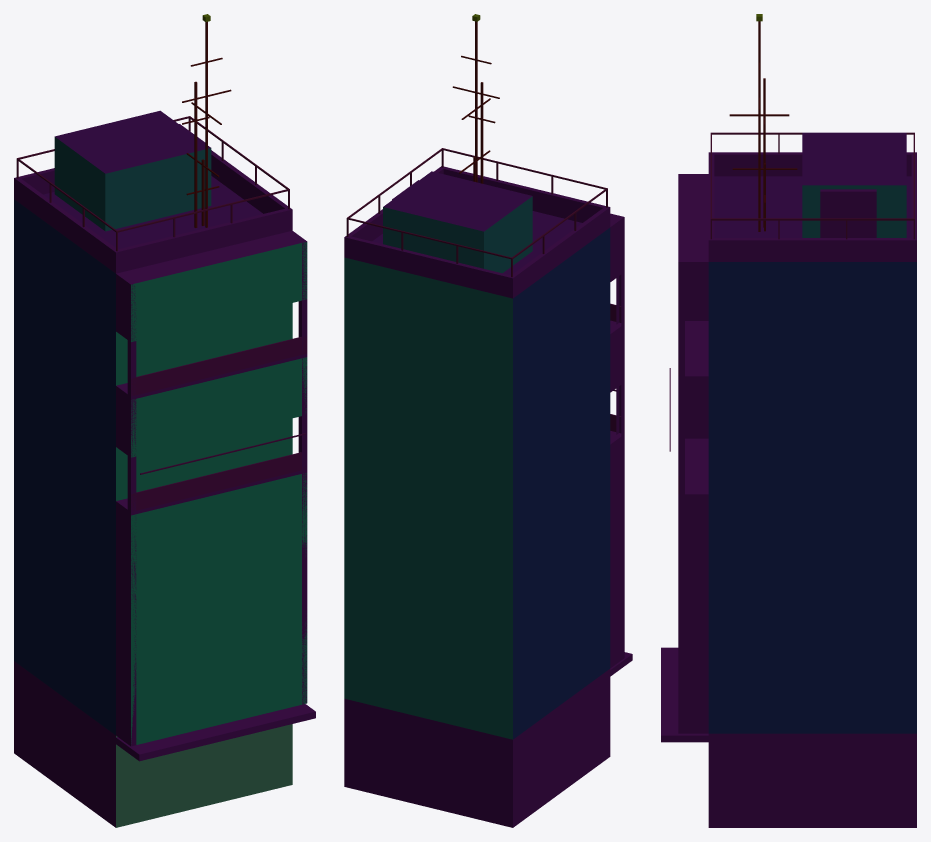
The model's file is walkup_d.glb.
3 views of the same model, side by side, from view 1: azimuth 30°, elevation 25°; view 2: azimuth 150°, elevation 25°; view 3: azimuth 270°, elevation 25° (orthographic). The views are drawn at different scales.
Parts seen in each view (by area): view 1: walkup_d; view 2: walkup_d; view 3: walkup_d.
Boxes of the visible parts, x1,y1,x2,y2 form: walkup_d: [14, 14, 315, 827]; walkup_d: [344, 14, 632, 827]; walkup_d: [661, 14, 916, 827].
Bounding box in the file's own units: 9.6 × 39.8 × 11.8.
